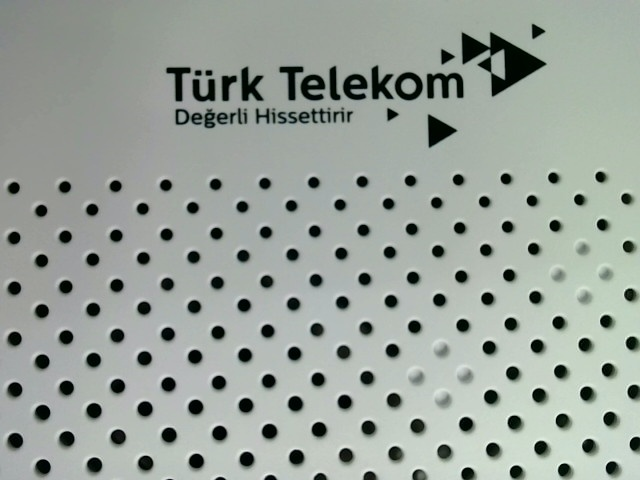AQ_TURKTelekom: (164, 19, 557, 148)
